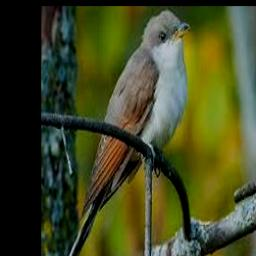Cuckoo: (50, 8, 189, 256)
